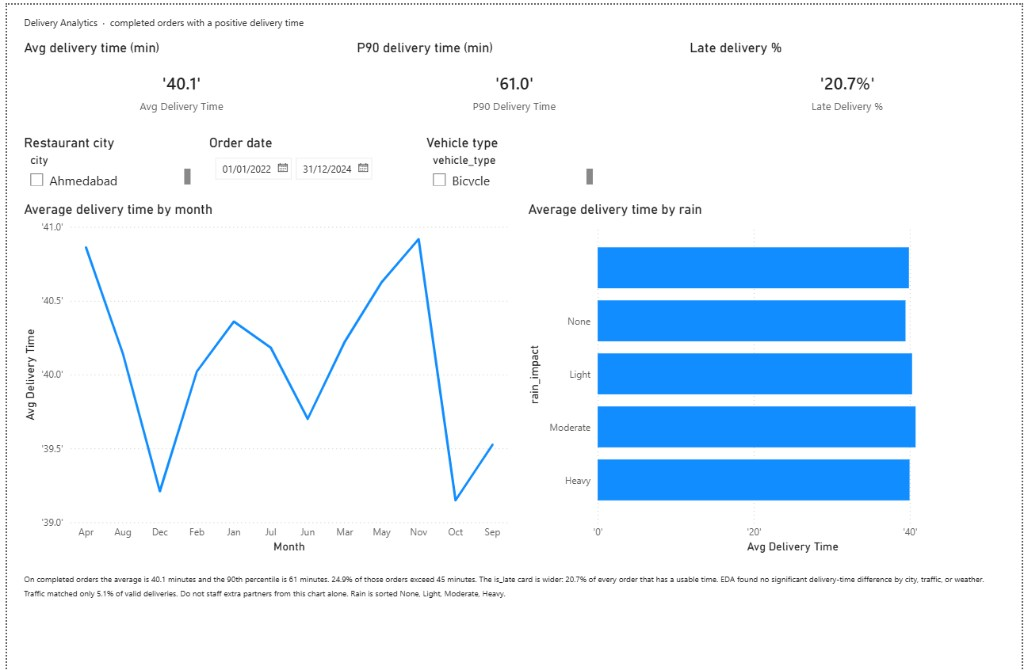

What the dashboard file says about the page in this screenshot:
{"tool":"powerbi","page":{"name":"Delivery Analytics","canvas":[1280,840],"ordinal":3},"visuals":[{"type":"textbox","box":[16,8,1000,32],"z":0},{"type":"card","title":"Avg delivery time (min)","fields":{"Values":["_Measures.Avg Delivery Time"]},"box":[16,44,408,112],"z":1},{"type":"card","title":"P90 delivery time (min)","fields":{"Values":["_Measures.P90 Delivery Time"]},"box":[436,44,408,112],"z":1},{"type":"card","title":"Late delivery %","fields":{"Values":["_Measures.Late Delivery %"]},"box":[856,44,408,112],"z":1},{"type":"slicer","title":"Restaurant city","fields":{"Values":["dim_city.city"]},"box":[16,164,220,70],"z":2},{"type":"slicer","title":"Order date","fields":{"Values":["dim_date.date"]},"box":[250,164,260,70],"z":2},{"type":"slicer","title":"Vehicle type","fields":{"Values":["fact_orders.vehicle_type"]},"box":[524,164,220,70],"z":2},{"type":"lineChart","title":"Average delivery time by month","fields":{"Category":["dim_date.Month"],"Y":["_Measures.Avg Delivery Time"]},"box":[16,248,620,450],"z":3},{"type":"clusteredBarChart","title":"Average delivery time by rain","fields":{"Category":["fact_orders.rain_impact"],"Y":["_Measures.Avg Delivery Time"]},"box":[652,248,600,450],"z":3},{"type":"textbox","box":[16,710,1240,110],"z":4}]}

Visuals, with their boxes in screenshot pixels (x1, y1, x2, y2), scaled from the page's 1280x840 canvas onto the 1024x670 screenshot:
textbox: crop(13, 6, 813, 32)
"Avg delivery time (min)" card: crop(13, 35, 339, 124)
"P90 delivery time (min)" card: crop(349, 35, 675, 124)
"Late delivery %" card: crop(685, 35, 1011, 124)
"Restaurant city" slicer: crop(13, 131, 189, 187)
"Order date" slicer: crop(200, 131, 408, 187)
"Vehicle type" slicer: crop(419, 131, 595, 187)
"Average delivery time by month" lineChart: crop(13, 198, 509, 557)
"Average delivery time by rain" clusteredBarChart: crop(522, 198, 1002, 557)
textbox: crop(13, 566, 1005, 654)
